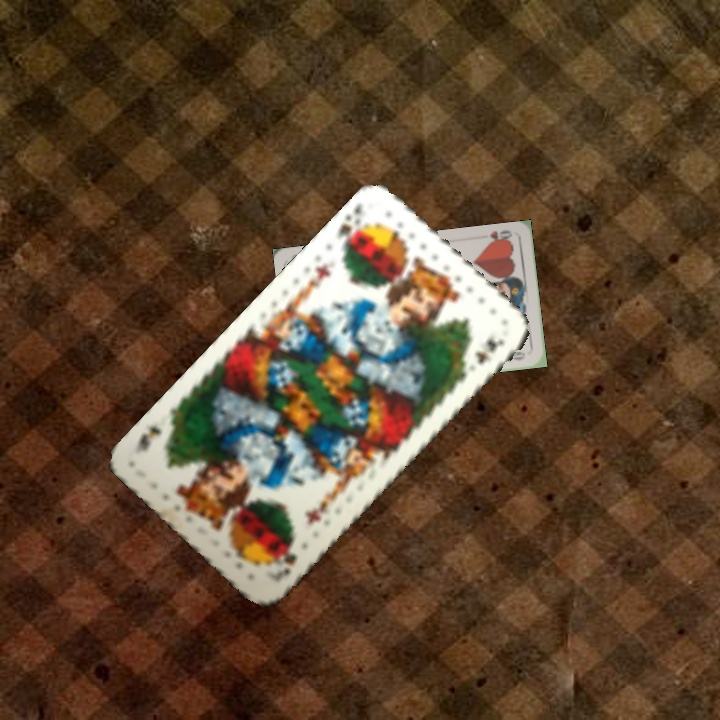HO: (484, 225, 515, 247)
SK: (332, 200, 366, 254), (270, 537, 300, 584)
